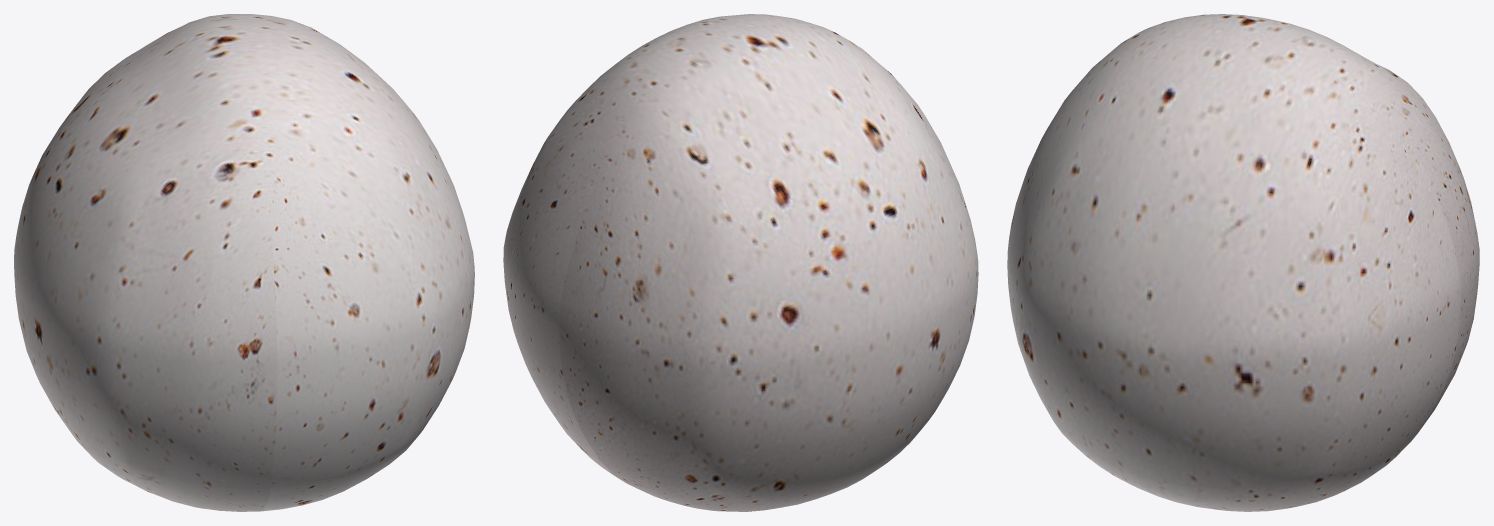
The model's file is turtleegg(single).fbx.
3 renders of one model, left to right at view 1: azimuth 30°, elevation 25°; view 2: azimuth 150°, elevation 25°; view 3: azimuth 270°, elevation 25°, orthographic.
Parts seen in each view (by area): view 1: turtleegg; view 2: turtleegg; view 3: turtleegg.
Part boxes in pixels (x1,y1,x2,y2): turtleegg: (14,14,474,511); turtleegg: (503,14,978,511); turtleegg: (1007,14,1479,511).
Bounding box in the file's own units: 3.31 × 3.53 × 3.3.
1 material, 1 textured.
